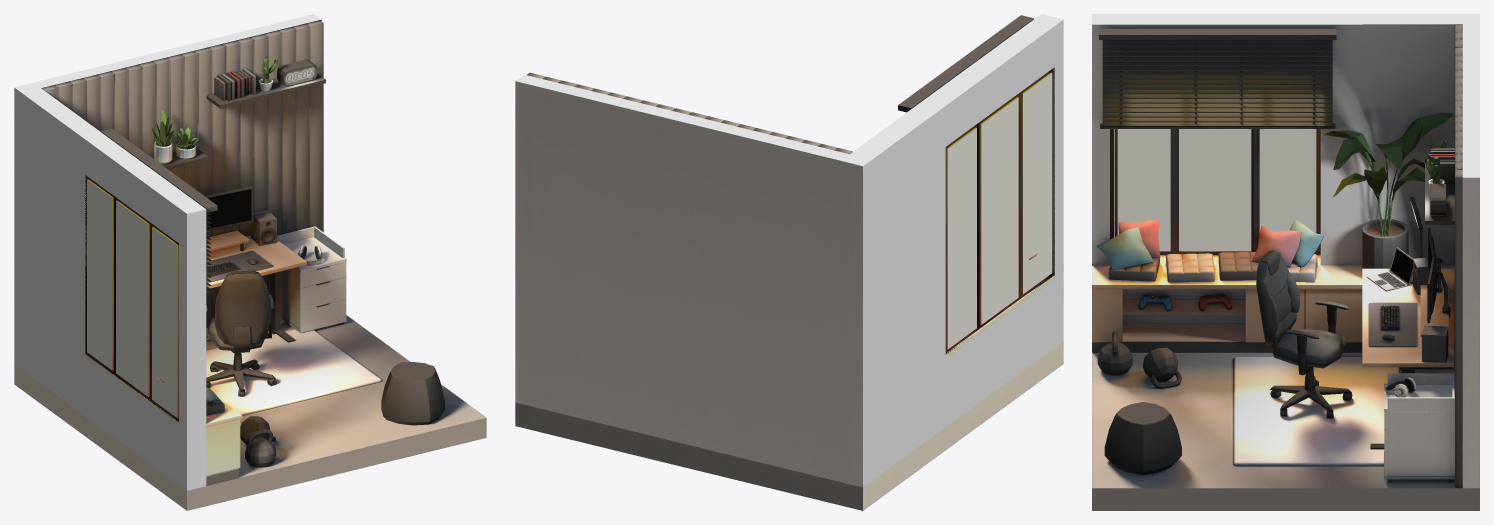
File: low_poly_baked_room_v2.glb
3 renders of one model, left to right at view 1: azimuth 30°, elevation 25°; view 2: azimuth 150°, elevation 25°; view 3: azimuth 270°, elevation 25°, orthographic. The views are drawn at different scales.
Parts seen in each view (by area): view 1: Room; view 2: Room; view 3: Room.
Part boxes in pixels (<box>): Room: <box>14,14,486,510</box>; Room: <box>515,14,1063,510</box>; Room: <box>1092,14,1479,510</box>.
Size of the model in its own units: 3.12 by 2.95 by 3.11.
1 material, 1 textured.
